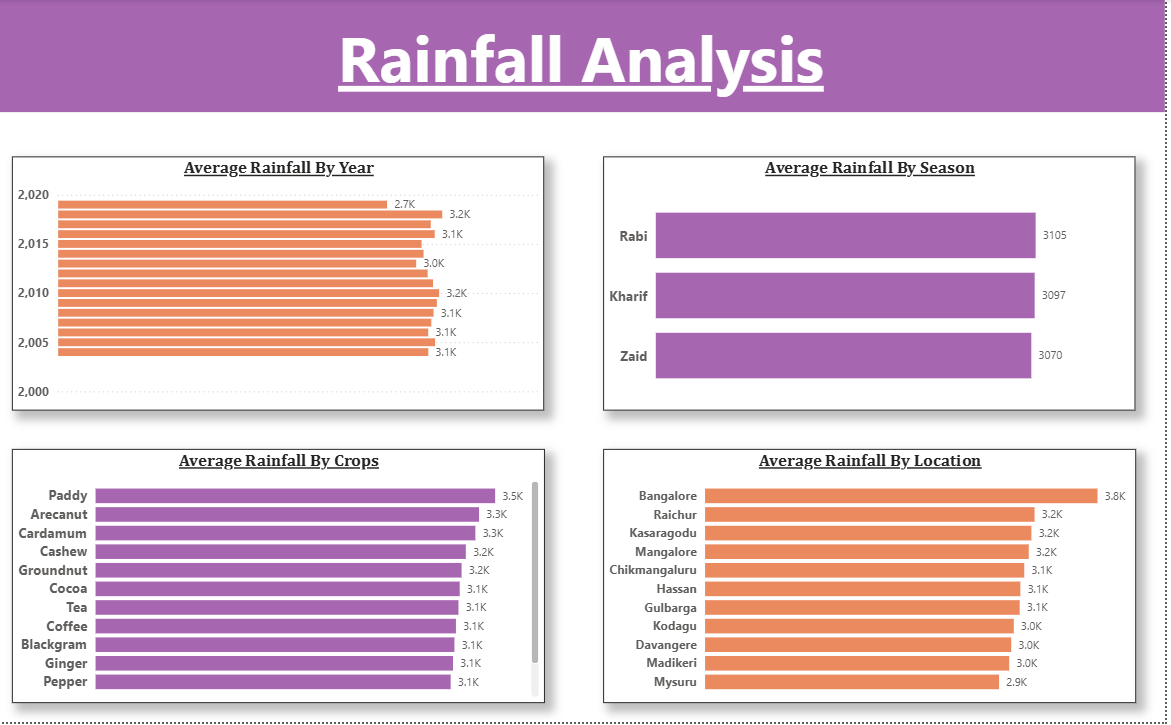

The page's visual inventory and layout, read from the dashboard file:
{"tool":"powerbi","page":{"name":"Rainfall Analysis","canvas":[1280,793],"ordinal":0},"visuals":[{"type":"clusteredBarChart","title":"Average Rainfall By Year","fields":{"Category":["AGRICULTURE.YEAR"],"Y":["Avg(AGRICULTURE.RAINFALL)"]},"box":[16.2,172.9,583.4,278.6],"z":0},{"type":"shape","box":[0,0,1280,124.4],"z":1000},{"type":"clusteredBarChart","title":"Average Rainfall By Season","fields":{"Y":["Avg(AGRICULTURE.RAINFALL)"],"Category":["AGRICULTURE.SEASON"]},"box":[664.3,172.9,583.4,278.6],"z":2000},{"type":"clusteredBarChart","title":"Average Rainfall By Crops","fields":{"Y":["Avg(AGRICULTURE.RAINFALL)"],"Category":["AGRICULTURE.CROPS"]},"box":[16.4,493.2,583.7,278.1],"z":3000},{"type":"clusteredBarChart","title":"Average Rainfall By Location","fields":{"Y":["Avg(AGRICULTURE.RAINFALL)"],"Category":["AGRICULTURE.LOCATION"]},"box":[664.5,493.2,583.7,278.1],"z":4000}]}

Visuals, with their boxes in screenshot pixels (x1, y1, x2, y2), scaled from the page's 1280x793 canvas onto the 1171x725 screenshot:
"Average Rainfall By Year" clusteredBarChart: {"left": 15, "top": 158, "right": 549, "bottom": 413}
shape: {"left": 0, "top": 0, "right": 1170, "bottom": 114}
"Average Rainfall By Season" clusteredBarChart: {"left": 608, "top": 158, "right": 1141, "bottom": 413}
"Average Rainfall By Crops" clusteredBarChart: {"left": 15, "top": 451, "right": 549, "bottom": 705}
"Average Rainfall By Location" clusteredBarChart: {"left": 608, "top": 451, "right": 1142, "bottom": 705}
